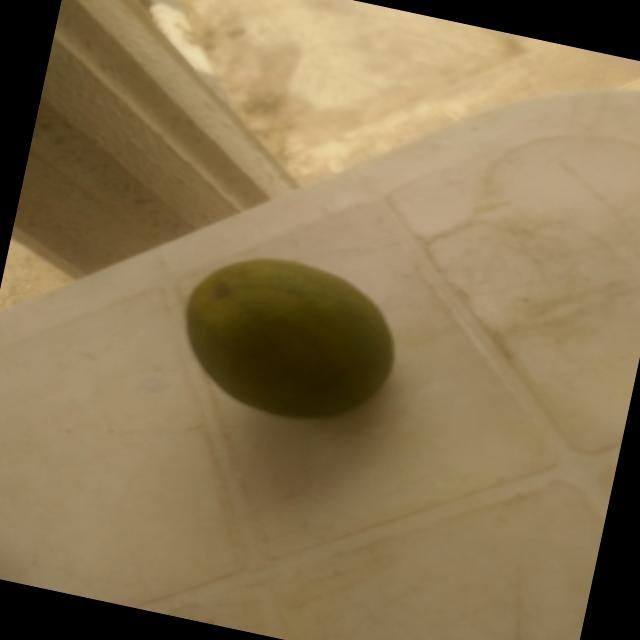agrume: (115, 202, 489, 490)
